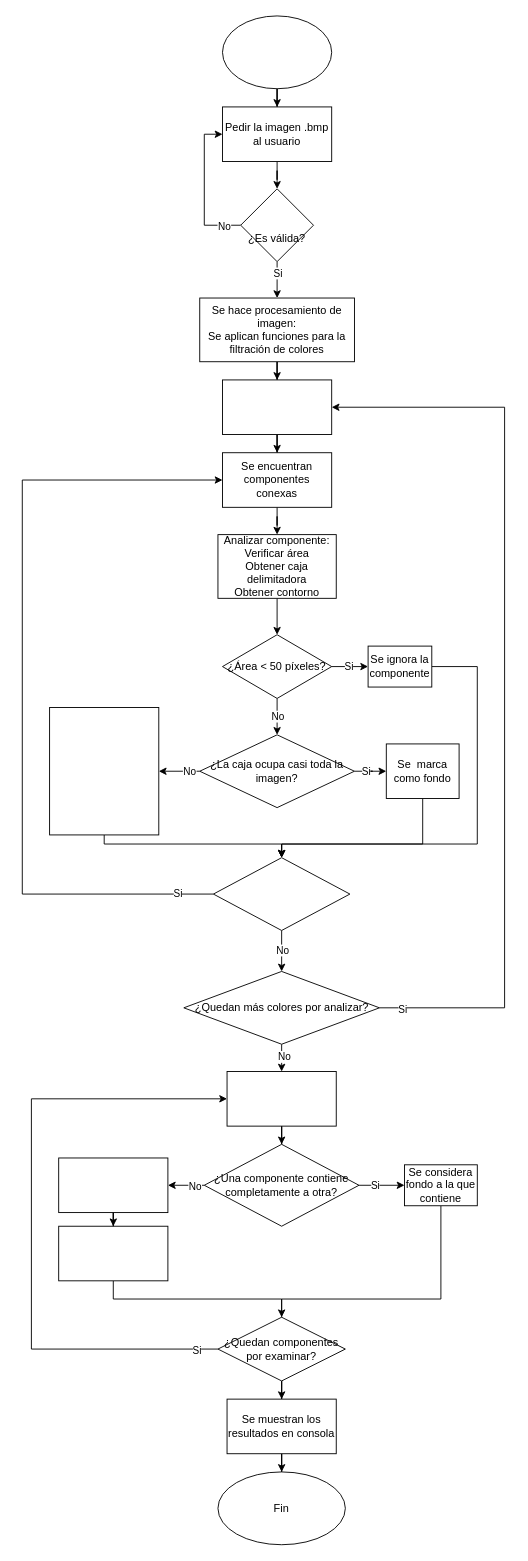
Image size: 528x1561. Some labels were removed from this diagram. The shapes that lost their labels are listed below. From the top down, each one's centre as x and y in pixels, then its label:
(x=277, y=52): Inicio
(x=277, y=407): Se selecciona un color y crean máscaras para este
(x=104, y=771): Se marca como figura: Se obtiene contorno y se guarda: color + caja + contorno
(x=281, y=893): ¿Quedan más componentes?
(x=281, y=1098): Se examinan relaciones entre componentes
(x=113, y=1185): Se clasifica mediante su contorno como: C/T/O/X
(x=113, y=1253): Se convierte el color a hexadecimal y se guarda la clasificación + color
